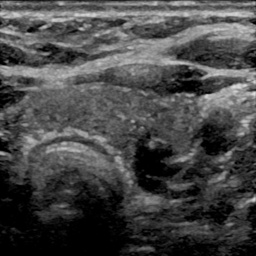mass: (134, 133, 183, 195)
